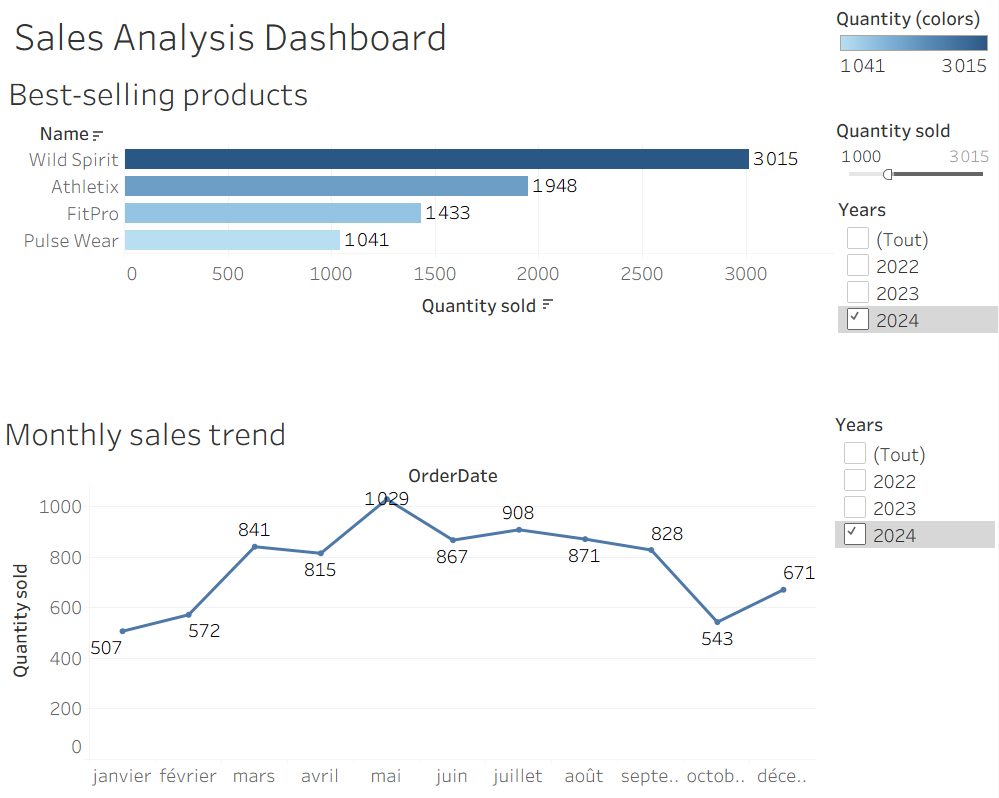

This screenshot's page, from the dashboard's own definition file:
{"tool":"tableau","page":{"name":"Sales Analysis Dashboard","canvas":[1000,800],"ordinal":0},"visuals":[{"type":"legend","title":"Best-selling products","param":"[federated.08b3fa90n3t27s13pdzk80dyyvgz].[sum:Qty:qk]","box":[838,6,156,97]},{"type":"title","box":[8,8,984,58]},{"type":"worksheet","title":"Best-selling products","mark":"Automatic","rows":["Name"],"cols":["Qty"],"box":[6,69,830,344]},{"type":"filter","title":"Best-selling products","param":"[federated.08b3fa90n3t27s13pdzk80dyyvgz].[sum:Qty:qk]","box":[838,118,160,69]},{"type":"filter","title":"Best-selling products","param":"[federated.08b3fa90n3t27s13pdzk80dyyvgz].[yr:OrderDate:ok]","box":[840,197,160,140]},{"type":"worksheet","title":"Monthly sales trend","mark":"Automatic","rows":["Qty"],"cols":["OrderDate"],"box":[2,409,816,395]},{"type":"filter","title":"Monthly sales trend","param":"[federated.08b3fa90n3t27s13pdzk80dyyvgz].[yr:OrderDate:ok]","box":[837,412,160,140]}]}

Visuals, with their boxes in screenshot pixels (x1, y1, x2, y2), scaled from the page's 1000x800 canvas onto the 999x798 screenshot:
"Best-selling products" legend: 837/6/993/103
title: 8/8/991/66
"Best-selling products" worksheet: 6/69/835/412
"Best-selling products" filter: 837/118/997/187
"Best-selling products" filter: 839/197/998/336
"Monthly sales trend" worksheet: 2/408/817/797
"Monthly sales trend" filter: 836/411/996/551
